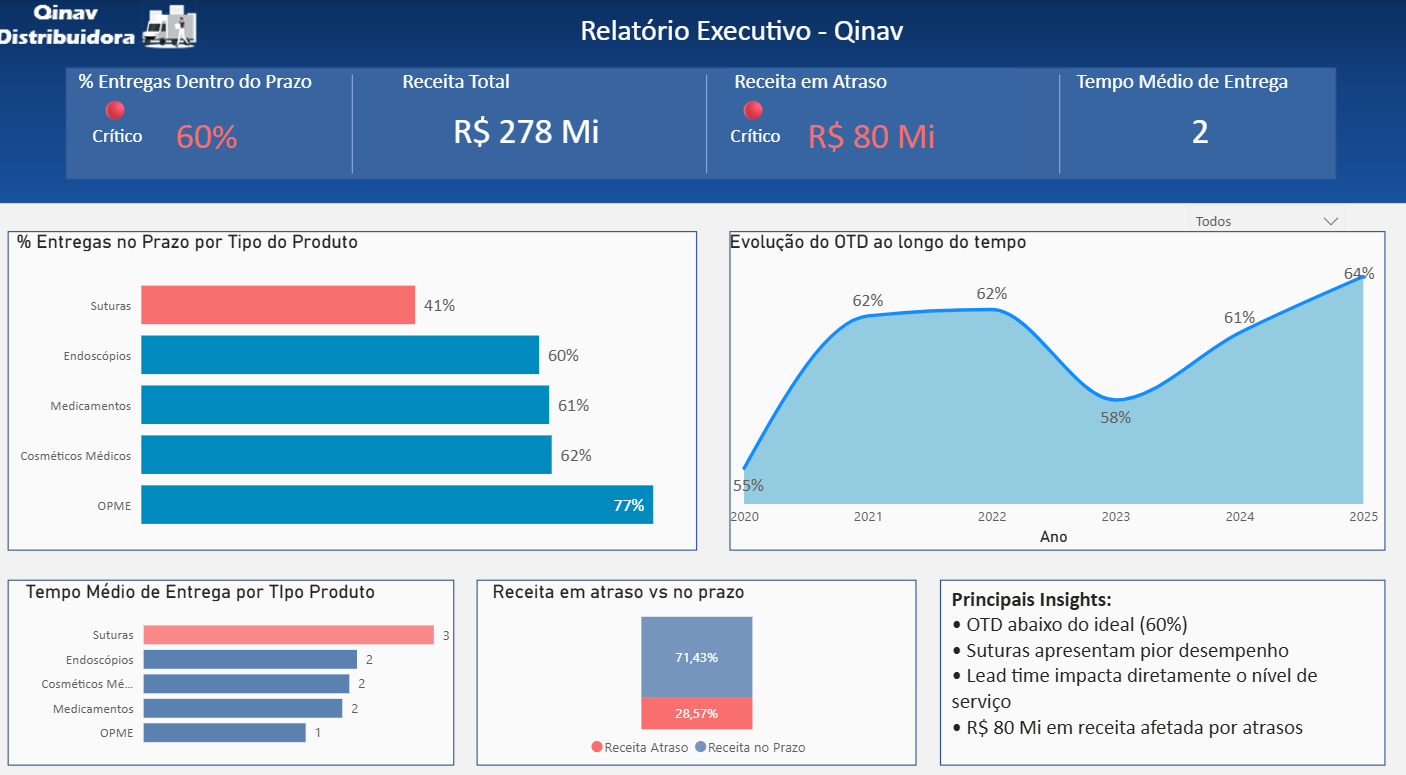

This screenshot's page, from the dashboard's own definition file:
{"tool":"powerbi","page":{"name":"VISÃO EXECUTIVA","canvas":[1280,720],"ordinal":0},"visuals":[{"type":"group","id":"g1","title":"Grupo 1","box":[80,62.7,240,96],"z":0},{"type":"card","title":"% Entregas Dentro do Prazo","fields":{"Values":["Medidas.% Dentro do Prazo"]},"box":[80,62.7,240,96],"z":500,"group":"g11"},{"type":"card","title":" Receita Total","fields":{"Values":["Medidas.Faturamento Total"]},"box":[370.5,62.7,232,88],"z":500,"group":"g16"},{"type":"card","title":"Receita em Atraso","fields":{"Values":["Medidas.Impacto Receita Atraso"]},"box":[669,62.7,256,96],"z":500,"group":"g20"},{"type":"card","title":"Tempo Médio de Entrega","fields":{"Values":["Medidas.Tempo Médio de Entrega"]},"box":[975.5,62.7,232,88],"z":500,"group":"g23"},{"type":"textbox","box":[296,8,768,48],"z":1000},{"type":"card","fields":{"Values":["Medidas.Status OTD"]},"box":[80,78.7,80,64],"z":1500,"group":"g11"},{"type":"group","id":"g2","title":"Grupo 1","box":[370.5,62.7,232,88],"z":2000},{"type":"group","id":"g3","title":"Grupo 2","box":[669,62.7,256,96],"z":3000,"group":"g5"},{"type":"group","id":"g4","title":"Grupo 3","box":[975.5,62.7,232,88],"z":3000},{"type":"card","fields":{"Values":["Medidas.Status OTD"]},"box":[653,78.7,80,64],"z":3500,"group":"g5"},{"type":"barChart","title":"% Entregas no Prazo por  Tipo do Produto","fields":{"Category":["14-Analise-OTD-Distrubuidora.tipo_produto"],"Y":["Medidas.% Dentro do Prazo"]},"box":[24,208,616,288],"z":4000},{"type":"areaChart","title":"Evolução do OTD ao longo do tempo","fields":{"Y":["Medidas.% Dentro do Prazo"],"Category":["DCalendario.Ano"]},"box":[664,208,592,288],"z":5000},{"type":"hundredPercentStackedColumnChart","title":"Receita em atraso vs no prazo","fields":{"Y":["Medidas.Impacto Receita Atraso","Medidas.Faturamento das Entregas no Prazo"]},"box":[452,522.7,384,168],"z":6000},{"type":"slicer","fields":{"Values":["14-Analise-OTD-Distrubuidora.data.Variation.Hierarquia de datas.Ano"]},"box":[1072,176,160,32],"z":7000},{"type":"textbox","box":[864,522.7,384,160],"z":8000},{"type":"barChart","title":"Tempo Médio de Entrega por TIpo Produto","fields":{"Category":["14-Analise-OTD-Distrubuidora.tipo_produto"],"Y":["Medidas.Tempo Médio de Entrega"]},"box":[32,522.7,392,160],"z":9000},{"type":"group","id":"g5","title":"Grupo 9","box":[653,62.7,272,96],"z":9002,"group":"g6"},{"type":"group","id":"g6","title":"Grupo 8","box":[653,62.7,272,96],"z":10000},{"type":"group","id":"g7","title":"Grupo 2","box":[80,62.7,240,96],"z":11001,"group":"g1"},{"type":"group","id":"g8","title":"Grupo 3","box":[80,62.7,240,96],"z":11001,"group":"g7"},{"type":"group","id":"g9","title":"Grupo 4","box":[80,62.7,240,96],"z":11001,"group":"g8"},{"type":"group","id":"g10","title":"Grupo 5","box":[80,62.7,240,96],"z":11001,"group":"g9"},{"type":"group","id":"g11","title":"Grupo 6","box":[80,62.7,240,96],"z":11001,"group":"g10"},{"type":"group","id":"g12","title":"Grupo 2","box":[370.5,62.7,232,88],"z":11001,"group":"g2"},{"type":"group","id":"g13","title":"Grupo 3","box":[370.5,62.7,232,88],"z":11001,"group":"g12"},{"type":"group","id":"g14","title":"Grupo 4","box":[370.5,62.7,232,88],"z":11001,"group":"g13"},{"type":"group","id":"g15","title":"Grupo 5","box":[370.5,62.7,232,88],"z":11001,"group":"g14"},{"type":"group","id":"g16","title":"Grupo 6","box":[370.5,62.7,232,88],"z":11001,"group":"g15"},{"type":"group","id":"g17","title":"Grupo 3","box":[669,62.7,256,96],"z":11001,"group":"g3"},{"type":"group","id":"g18","title":"Grupo 4","box":[669,62.7,256,96],"z":11001,"group":"g17"},{"type":"group","id":"g19","title":"Grupo 5","box":[669,62.7,256,96],"z":11001,"group":"g18"},{"type":"group","id":"g20","title":"Grupo 6","box":[669,62.7,256,96],"z":11001,"group":"g19"},{"type":"group","id":"g21","title":"Grupo 4","box":[975.5,62.7,232,88],"z":11001,"group":"g4"},{"type":"group","id":"g22","title":"Grupo 5","box":[975.5,62.7,232,88],"z":11001,"group":"g21"},{"type":"group","id":"g23","title":"Grupo 6","box":[975.5,62.7,232,88],"z":11001,"group":"g22"}]}

Visuals, with their boxes in screenshot pixels (x1, y1, x2, y2), scaled from the page's 1280x720 canvas onto the 1406x775 screenshot:
"Grupo 1" group: 88 67 352 171
"% Entregas Dentro do Prazo" card: 88 67 352 171
" Receita Total" card: 407 67 662 162
"Receita em Atraso" card: 735 67 1016 171
"Tempo Médio de Entrega" card: 1072 67 1326 162
textbox: 325 9 1169 60
card - Medidas.Status OTD: 88 85 176 154
"Grupo 1" group: 407 67 662 162
"Grupo 2" group: 735 67 1016 171
"Grupo 3" group: 1072 67 1326 162
card - Medidas.Status OTD: 717 85 805 154
"% Entregas no Prazo por  Tipo do Produto" barChart: 26 224 703 534
"Evolução do OTD ao longo do tempo" areaChart: 729 224 1380 534
"Receita em atraso vs no prazo" hundredPercentStackedColumnChart: 496 563 918 743
slicer - 14-Analise-OTD-Distrubuidora.data.Variation.Hierarquia de datas.Ano: 1178 189 1353 224
textbox: 949 563 1371 735
"Tempo Médio de Entrega por TIpo Produto" barChart: 35 563 466 735
"Grupo 9" group: 717 67 1016 171
"Grupo 8" group: 717 67 1016 171
"Grupo 2" group: 88 67 352 171
"Grupo 3" group: 88 67 352 171
"Grupo 4" group: 88 67 352 171
"Grupo 5" group: 88 67 352 171
"Grupo 6" group: 88 67 352 171
"Grupo 2" group: 407 67 662 162
"Grupo 3" group: 407 67 662 162
"Grupo 4" group: 407 67 662 162
"Grupo 5" group: 407 67 662 162
"Grupo 6" group: 407 67 662 162
"Grupo 3" group: 735 67 1016 171
"Grupo 4" group: 735 67 1016 171
"Grupo 5" group: 735 67 1016 171
"Grupo 6" group: 735 67 1016 171
"Grupo 4" group: 1072 67 1326 162
"Grupo 5" group: 1072 67 1326 162
"Grupo 6" group: 1072 67 1326 162
